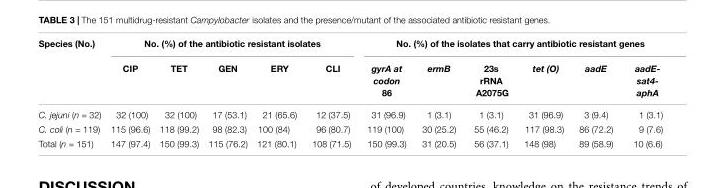table: (37, 37, 662, 148)
table column: (37, 37, 105, 148), (303, 37, 358, 148), (358, 37, 413, 148), (515, 37, 570, 148), (251, 37, 303, 148), (570, 37, 622, 148), (413, 37, 464, 148), (464, 37, 515, 148), (105, 37, 154, 148), (202, 37, 251, 148), (154, 37, 202, 148), (622, 37, 662, 148)
table column header: (37, 37, 662, 102)
table row: (37, 55, 662, 102), (37, 102, 662, 121), (37, 37, 662, 55), (37, 121, 662, 135), (37, 135, 662, 148)
table spanning cell: (358, 37, 662, 55), (105, 37, 358, 55), (37, 37, 105, 102)
